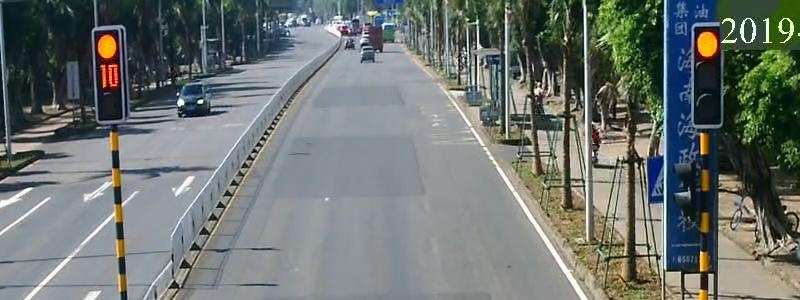red: (688, 22, 727, 65), (90, 30, 125, 60)
redtime: (91, 61, 131, 96)
